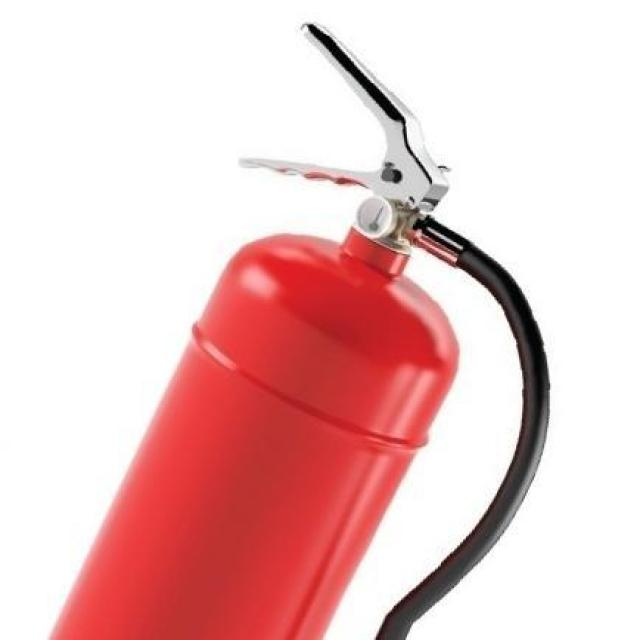fire_extinguisher: (29, 15, 552, 638)
